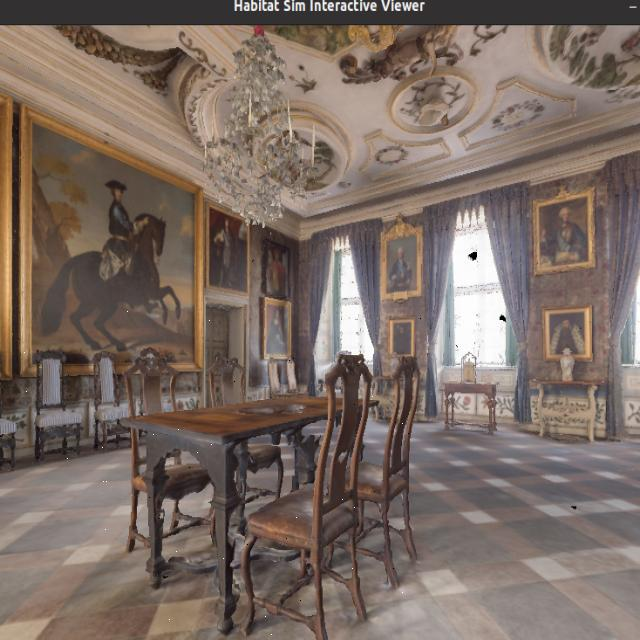chair: (230, 341, 390, 640), (99, 311, 231, 571), (348, 315, 429, 611), (24, 335, 87, 462)
table: (126, 361, 408, 631)
